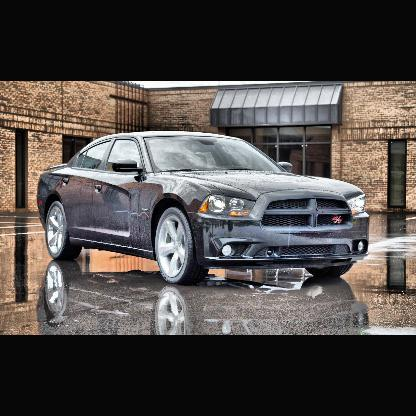Dodge Charger Sedan 2012: (36, 129, 370, 287)
